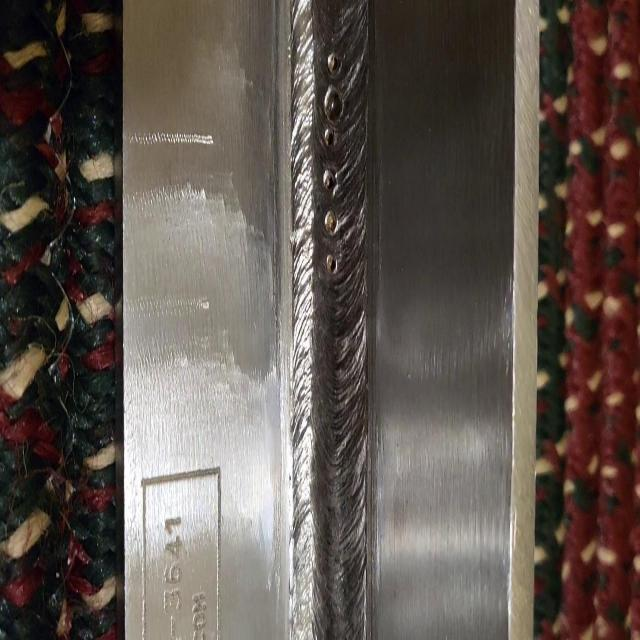Welding Line: (292, 0, 360, 640)
Workpiece: (124, 4, 536, 640)
porosity: (323, 49, 343, 271)
